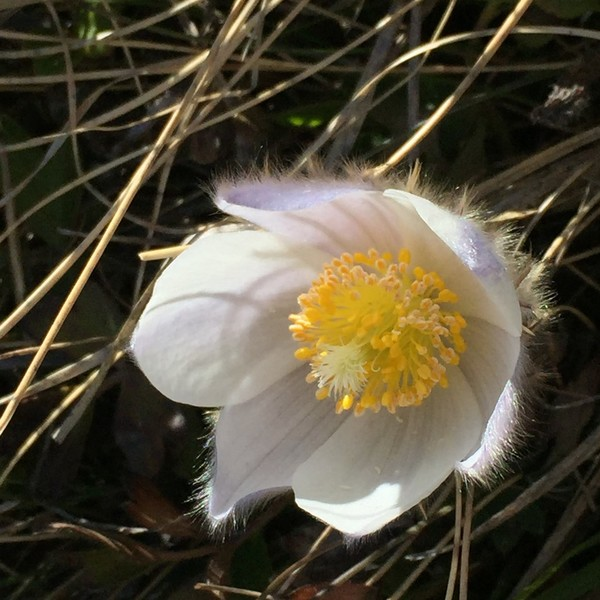obstacle: (148, 148, 548, 541)
